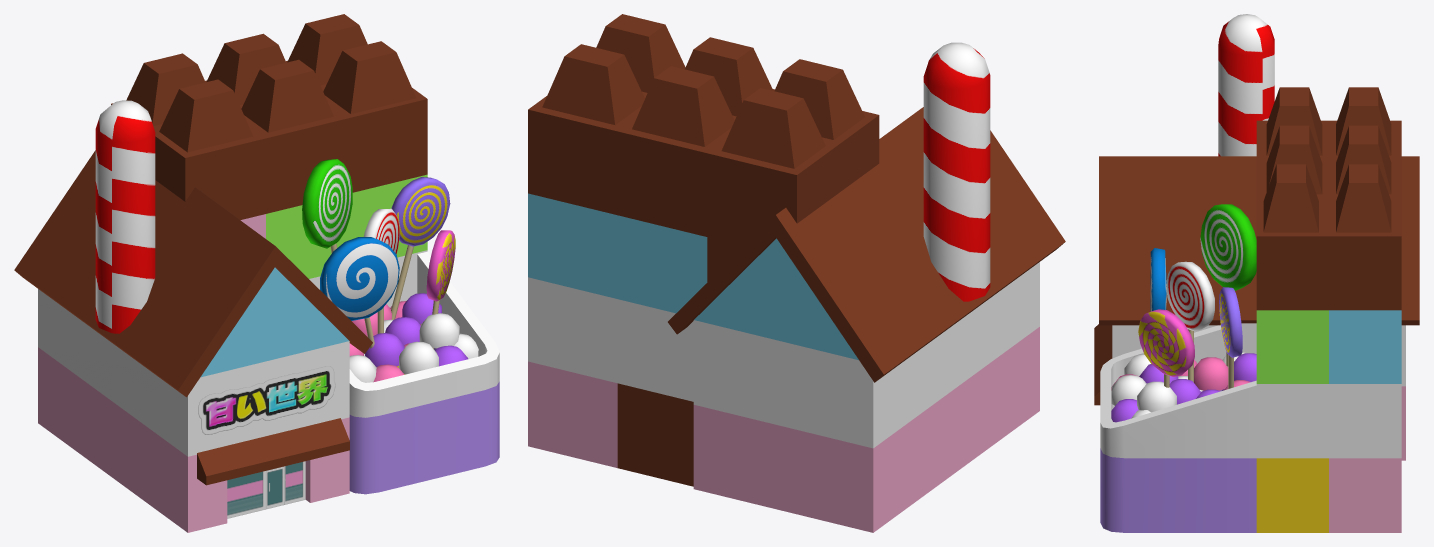
File: Town_Bld_CandyShop_A.FBX
The picture shows the model from 3 angles, left to right: view 1: azimuth 30°, elevation 25°; view 2: azimuth 150°, elevation 25°; view 3: azimuth 270°, elevation 25°; orthographic projection. The views are drawn at different scales.
Parts seen in each view (by area): view 1: Town_Bld_CandyShop_A; view 2: Town_Bld_CandyShop_A; view 3: Town_Bld_CandyShop_A.
Boxes of the visible parts, x1,y1,x2,y2 form: Town_Bld_CandyShop_A: (14,14,499,532); Town_Bld_CandyShop_A: (528,14,1065,532); Town_Bld_CandyShop_A: (1094,14,1419,532).
Size of the model in its own units: 1070 by 1123 by 895.
